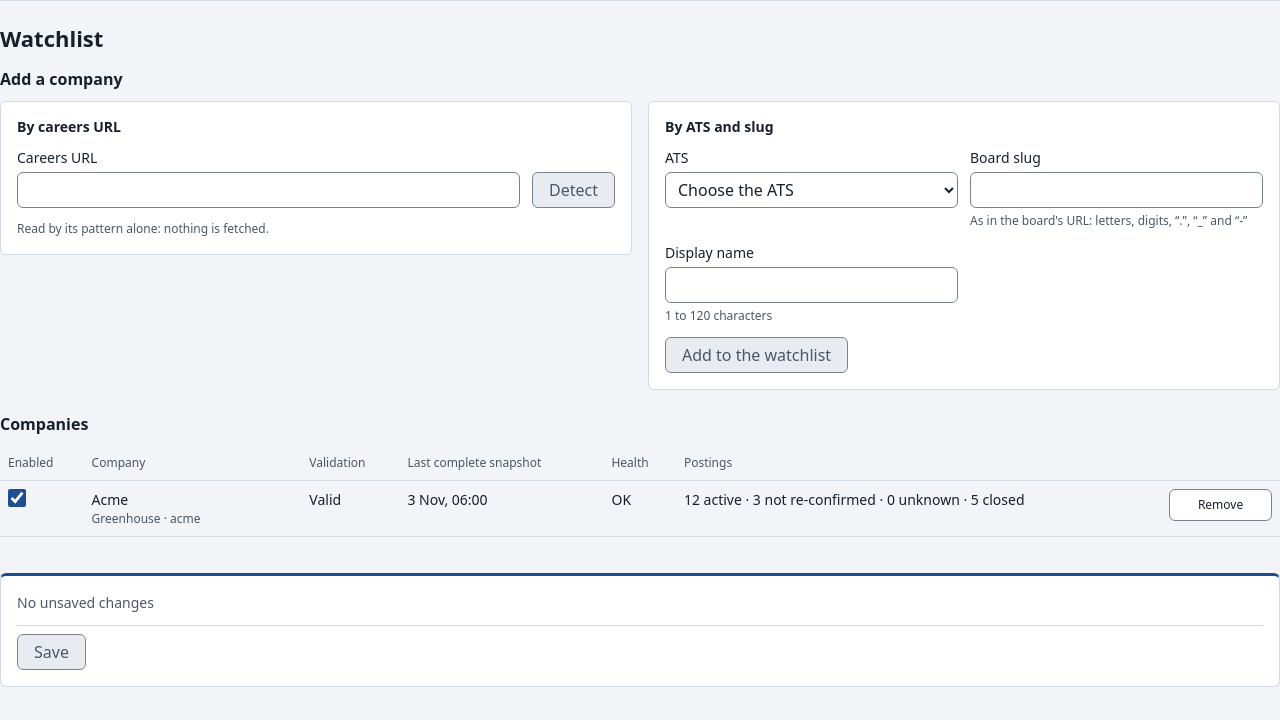
Scenario: WatchlistSection › remove asks first
Step 1. Click the button with aria-label "Remove “Acme”" → (1221, 505), box [1169,489,1272,521]
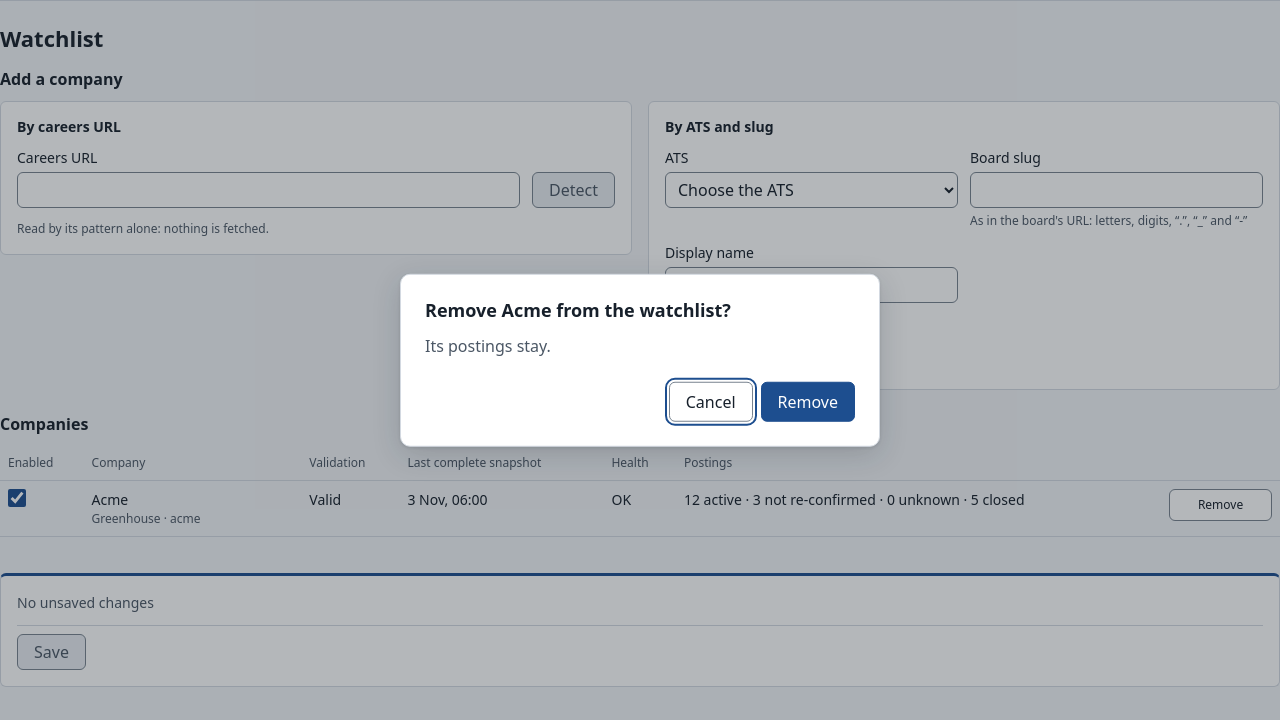
Now the text "Its postings stay." is shown, box [425,334,551,356]
Step 2. Click the button "Cancel" → (711, 401), box [669,381,752,421]
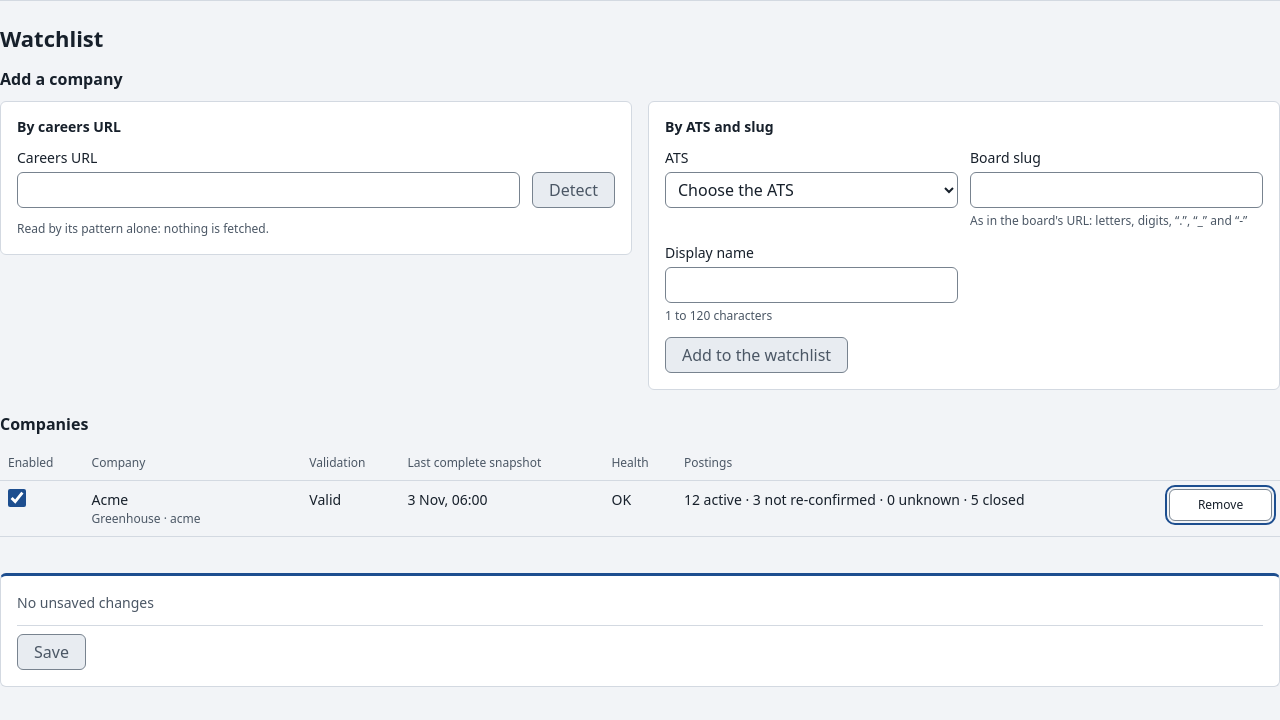
Now the dialog is gone
